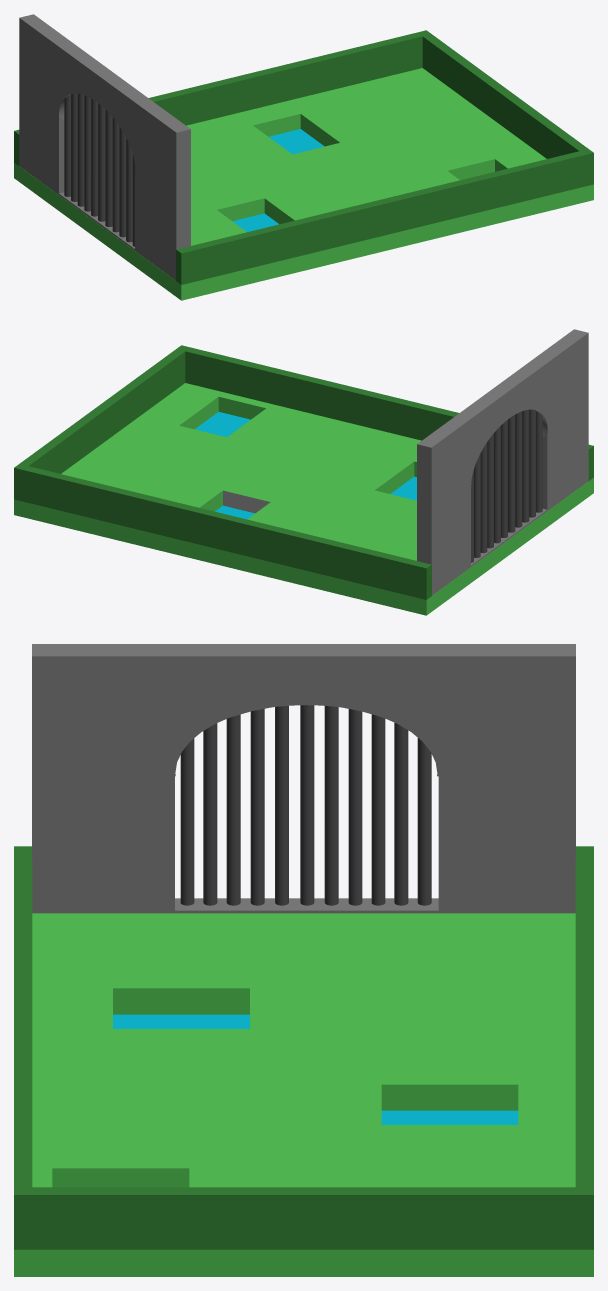
Rendered from Stage0102.fbx.
3 renders of one model, top to bottom at view 1: azimuth 30°, elevation 25°; view 2: azimuth 150°, elevation 25°; view 3: azimuth 270°, elevation 25°, orthographic. The views are drawn at different scales.
Parts seen in each view (by area): view 1: pCube12, pCube6, pasted__pCylinder2, pPlane1; view 2: pCube12, pCube6, pasted__pCylinder2, pPlane1; view 3: pCube12, pCube6, pasted__pCylinder2, pPlane1.
Boxes of the visible parts, left/top/right/bottom form: pCube12: left=14, top=30, right=593, bottom=300; pCube6: left=19, top=14, right=190, bottom=280; pasted__pCylinder2: left=64, top=93, right=135, bottom=246; pPlane1: left=232, top=129, right=324, bottom=232; pCube12: left=14, top=345, right=593, bottom=615; pCube6: left=417, top=329, right=588, bottom=595; pasted__pCylinder2: left=471, top=409, right=542, bottom=562; pPlane1: left=195, top=412, right=416, bottom=519; pCube12: left=14, top=846, right=593, bottom=1276; pCube6: left=32, top=644, right=575, bottom=913; pasted__pCylinder2: left=180, top=705, right=431, bottom=905; pPlane1: left=113, top=1014, right=518, bottom=1124.
Bounding box in the file's own units: 22.4 × 8.52 × 15.75.
